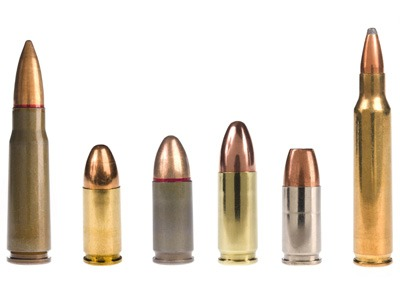bullet: (6, 37, 53, 267), (352, 24, 394, 270), (213, 119, 260, 268), (151, 133, 194, 267), (280, 145, 325, 268), (81, 142, 123, 266)
